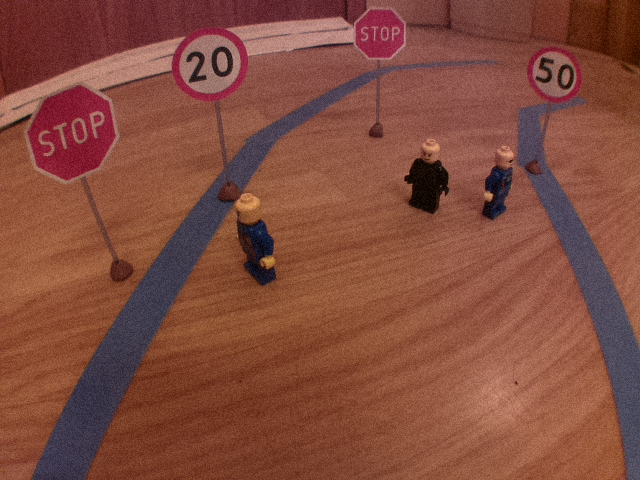LEGO_person: (230, 188, 284, 289), (402, 136, 453, 216), (477, 143, 520, 222)
ogr_20: (168, 25, 253, 104)
ogr_50: (523, 45, 586, 105)
stop: (22, 78, 120, 187), (350, 4, 410, 64)
